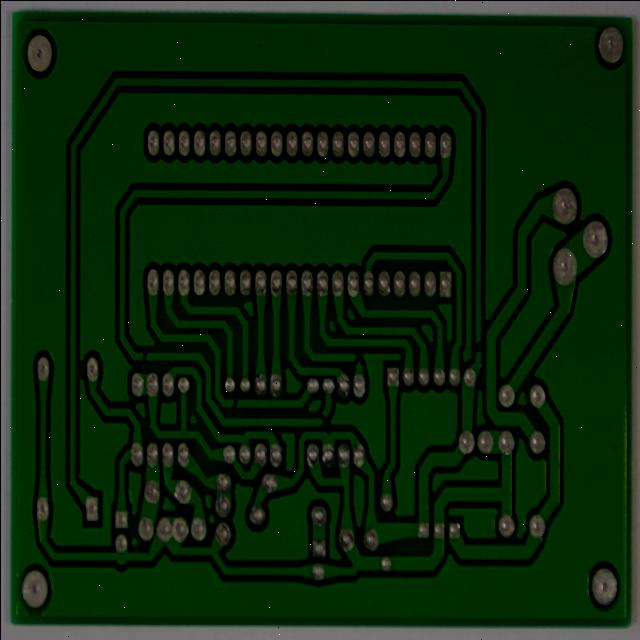open_circuit: (470, 327, 482, 352), (225, 388, 238, 408), (312, 403, 324, 422), (346, 345, 359, 362), (134, 341, 144, 359)
